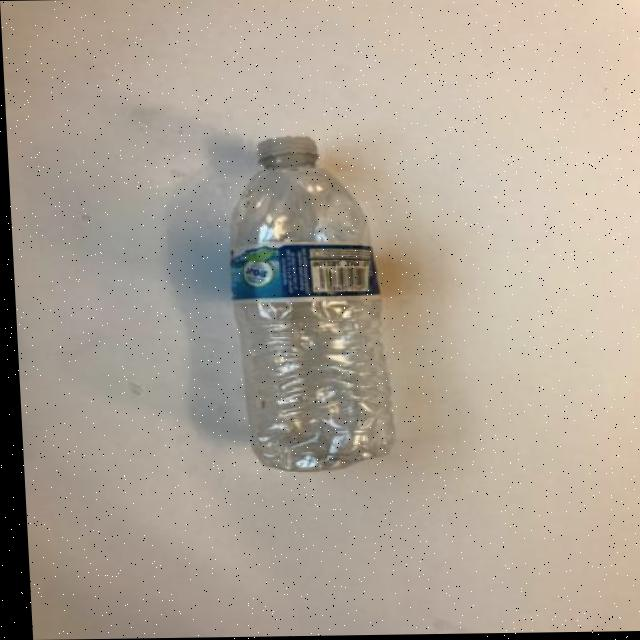litter: (241, 125, 330, 169)
